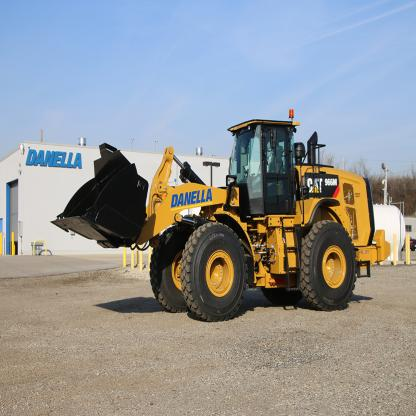bull_dozer/loader/grader: (52, 114, 393, 358)
